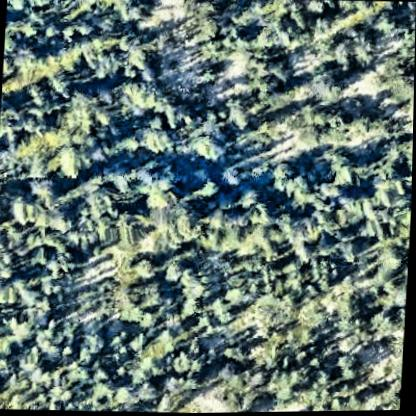tree-top: (273, 158, 322, 206), (337, 105, 381, 147), (326, 149, 364, 191), (139, 121, 177, 161), (346, 34, 382, 72), (9, 186, 43, 225), (195, 131, 229, 167), (55, 142, 89, 178), (170, 213, 205, 246), (331, 37, 362, 72), (316, 71, 350, 101), (372, 9, 405, 38), (220, 161, 249, 192), (252, 199, 279, 232), (173, 351, 201, 378), (117, 0, 150, 22), (135, 256, 162, 282), (339, 354, 365, 381), (137, 380, 165, 405), (115, 383, 140, 410), (225, 342, 251, 367), (268, 62, 296, 85), (179, 294, 202, 321), (128, 49, 154, 72), (201, 178, 224, 200), (84, 334, 107, 356), (166, 261, 185, 285), (304, 0, 331, 15), (76, 19, 96, 39), (42, 20, 62, 39), (90, 364, 112, 381), (24, 20, 41, 41), (345, 246, 362, 266), (0, 353, 14, 377), (0, 376, 1, 396)
